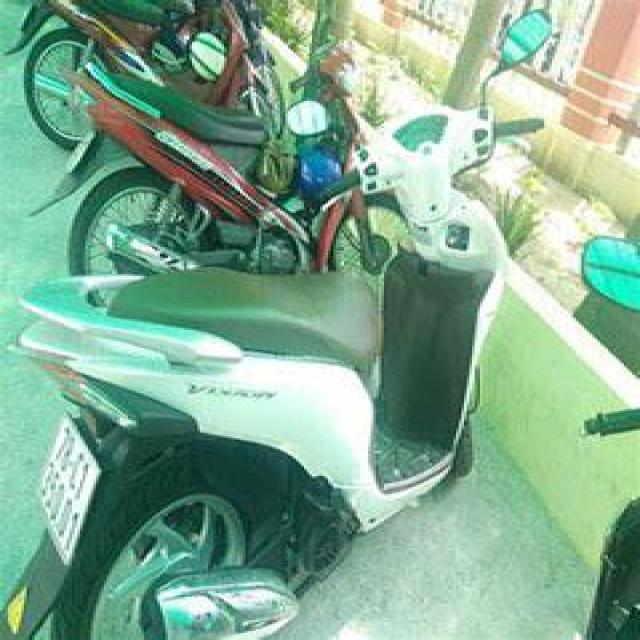motorcycle: (1, 0, 526, 636), (51, 35, 376, 277), (25, 0, 305, 142)
